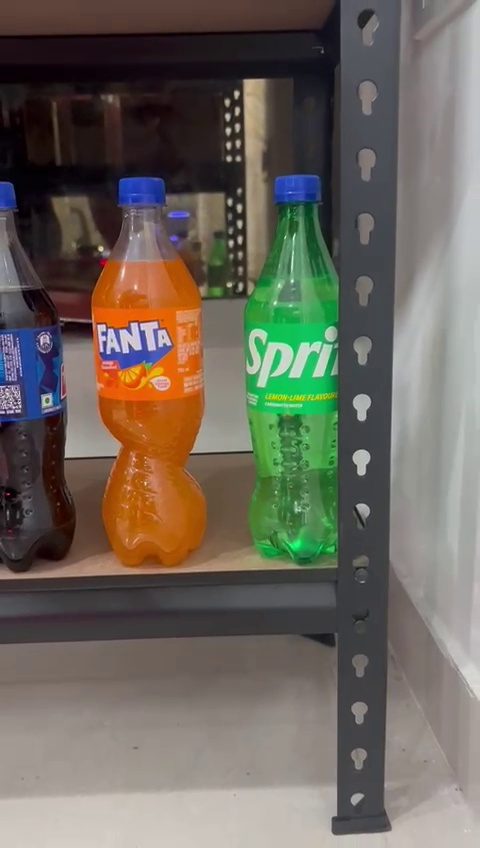Fanta: (78, 169, 225, 574)
Sprit: (236, 170, 340, 568)
